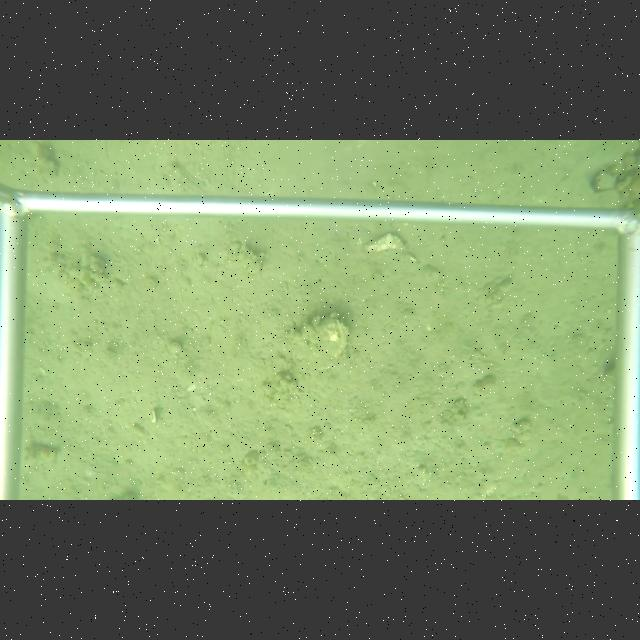Oyster-Closed: (288, 316, 353, 376)
